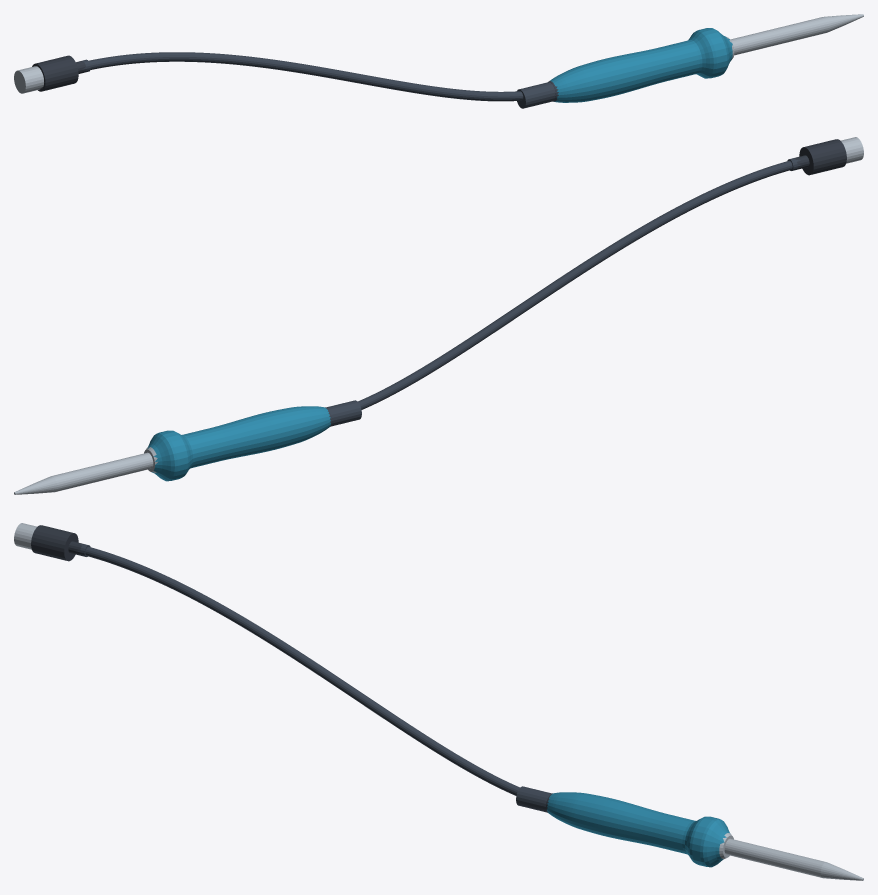
3 views of the same model, one above another, from view 1: azimuth 30°, elevation 25°; view 2: azimuth 210°, elevation 25°; view 3: azimuth 330°, elevation 25° (orthographic).
Parts seen in each view (by area): view 1: geometry_0; view 2: geometry_0; view 3: geometry_0.
Boxes of the visible parts, bbox=[...] form: geometry_0: bbox=[14, 14, 863, 108]; geometry_0: bbox=[14, 137, 863, 494]; geometry_0: bbox=[14, 523, 863, 880].
Size of the model in its own units: 0.5075 by 0.1005 by 0.026.
1 material, 1 textured.
